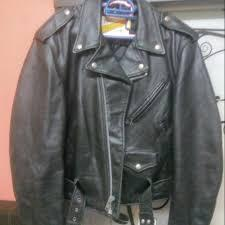jacket: (15, 6, 219, 224)
